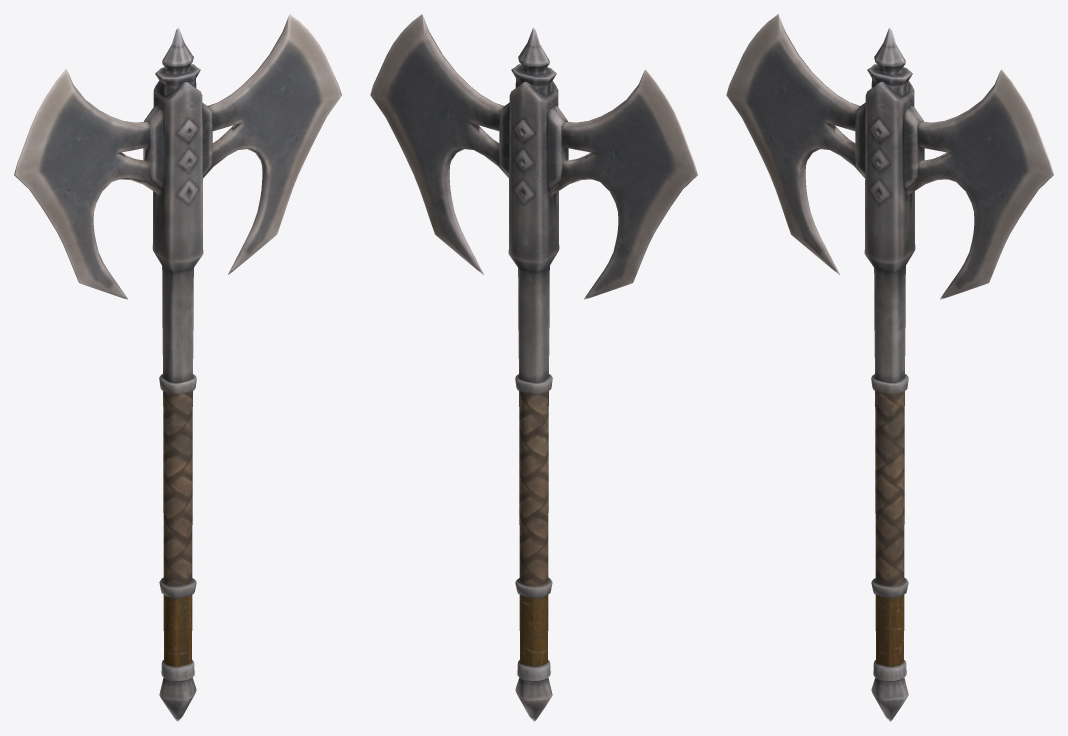
The picture shows the model from 3 angles, left to right: view 1: azimuth 30°, elevation 25°; view 2: azimuth 150°, elevation 25°; view 3: azimuth 330°, elevation 25°; orthographic projection.
Parts seen in each view (by area): view 1: SM_GreatAxe_Steel_2H_01_LOD0; view 2: SM_GreatAxe_Steel_2H_01_LOD0; view 3: SM_GreatAxe_Steel_2H_01_LOD0.
Part boxes in pixels (left/top/right/bottom): SM_GreatAxe_Steel_2H_01_LOD0: left=14, top=14, right=341, bottom=721; SM_GreatAxe_Steel_2H_01_LOD0: left=370, top=14, right=697, bottom=721; SM_GreatAxe_Steel_2H_01_LOD0: left=726, top=14, right=1053, bottom=721.
Size of the model in its own units: 0.7365 by 1.49 by 0.0941.
1 material, 1 textured.
